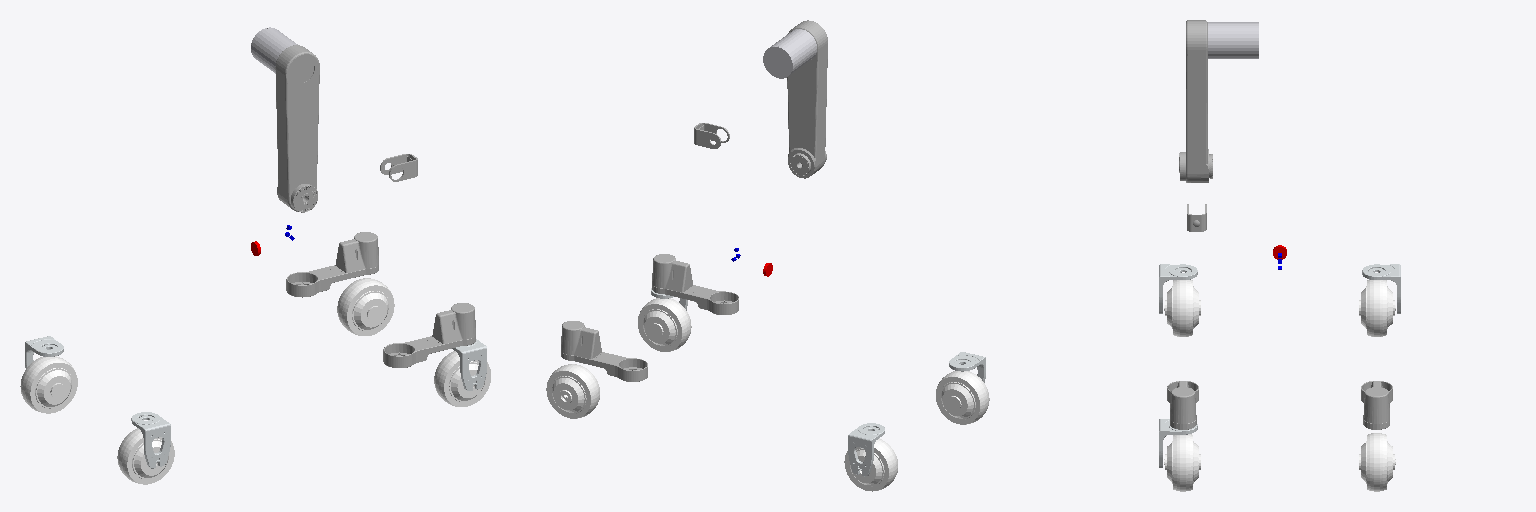
--- What the picture shows (computed from the rendered views, not written in the file) ---
Views: 3 orthographic renders of the robot side by side, from view 1: azimuth 30°, elevation 25°; view 2: azimuth 150°, elevation 25°; view 3: azimuth 270°, elevation 25°.
Model ia_robot with 33 links and 32 joints (17 continuous, 2 prismatic, 13 fixed), rooted at base_footprint, posed every joint at zero.
Links seen in each view (by area): view 1: ARM1_RIGHT, Leg_front_right_3, Leg_front_left_3, Leg_front_left_1, Leg_back_left_1, Leg_back_right_1, Leg_front_right_1, Leg_back_right_2, ARM0_RIGHT, Leg_front_right_2, ARM3_RIGHT, Leg_back_left_2; view 2: ARM1_RIGHT, Leg_front_left_3, Leg_front_right_3, Leg_front_left_1, Leg_back_right_1, Leg_front_right_1, ARM0_RIGHT, Leg_back_left_1, Leg_back_left_2, Leg_back_right_2, ARM3_RIGHT; view 3: ARM1_RIGHT, ARM0_RIGHT, Leg_front_left_1, Leg_back_left_1, Leg_back_right_1, Leg_front_right_1, Leg_front_left_3, Leg_front_right_3, Leg_back_left_2, Leg_back_right_2.
Link boxes in pixels (x1=…): ARM1_RIGHT: x1=275, y1=45, x2=319, y2=212; Leg_front_right_3: x1=383, y1=303, x2=475, y2=367; Leg_front_left_3: x1=286, y1=232, x2=378, y2=297; Leg_front_left_1: x1=337, y1=278, x2=394, y2=335; Leg_back_left_1: x1=20, y1=356, x2=77, y2=413; Leg_back_right_1: x1=117, y1=428, x2=174, y2=484; Leg_front_right_1: x1=434, y1=351, x2=490, y2=406; Leg_back_right_2: x1=131, y1=412, x2=170, y2=468; ARM0_RIGHT: x1=251, y1=27, x2=297, y2=73; Leg_front_right_2: x1=452, y1=339, x2=486, y2=390; ARM3_RIGHT: x1=380, y1=154, x2=417, y2=181; Leg_back_left_2: x1=25, y1=336, x2=63, y2=368; ARM1_RIGHT: x1=787, y1=20, x2=827, y2=178; Leg_front_left_3: x1=561, y1=321, x2=647, y2=381; Leg_front_right_3: x1=652, y1=254, x2=738, y2=314; Leg_front_left_1: x1=546, y1=364, x2=599, y2=418; Leg_back_right_1: x1=936, y1=371, x2=989, y2=424; Leg_front_right_1: x1=638, y1=298, x2=691, y2=351; ARM0_RIGHT: x1=763, y1=29, x2=816, y2=78; Leg_back_left_1: x1=844, y1=438, x2=897, y2=491; Leg_back_left_2: x1=848, y1=423, x2=884, y2=476; Leg_back_right_2: x1=949, y1=352, x2=985, y2=382; ARM3_RIGHT: x1=694, y1=123, x2=729, y2=148; ARM1_RIGHT: x1=1179, y1=20, x2=1212, y2=182; ARM0_RIGHT: x1=1208, y1=22, x2=1258, y2=58; Leg_front_left_1: x1=1359, y1=433, x2=1395, y2=491; Leg_back_left_1: x1=1359, y1=280, x2=1395, y2=336; Leg_back_right_1: x1=1164, y1=280, x2=1200, y2=336; Leg_front_right_1: x1=1164, y1=434, x2=1200, y2=491; Leg_front_left_3: x1=1361, y1=381, x2=1392, y2=429; Leg_front_right_3: x1=1167, y1=381, x2=1198, y2=429; Leg_back_left_2: x1=1362, y1=264, x2=1400, y2=313; Leg_back_right_2: x1=1159, y1=264, x2=1197, y2=313.
Size in the robot's own frame: 1.16 by 0.663 by 1.18 metres.
12 mesh visuals loaded from 20 distinct referenced files (12 binary STL); not drawn: 8 (reference not matched to a file when rendering).

The robot description file, URDF, robot "ia_robot":
<?xml version="1.0" encoding="utf-8"?>
<!--
     ========================================================================
     INTUITIVE AUTONOMY CONFIDENTIAL
     ========================================================================
     This URDF file and all its contents are proprietary and confidential 
     to Intuitive Autonomy. All designs, specifications, and technical data 
     contained within this file are the exclusive property of Intuitive 
     Autonomy and are protected by applicable intellectual property laws. 
     Unauthorized use, reproduction, distribution, or disclosure is strictly 
     prohibited.
     ========================================================================
-->
<!-- This URDF was automatically created by SolidWorks to URDF Exporter! Originally created by Stephen Brawner ([email redacted]) 
     Commit Version: 1.6.0-4-g7f85cfe  Build Version: 1.6.7995.38578
     For more information, please see http://wiki.ros.org/sw_urdf_exporter -->
<robot
  name="ia_robot" xmlns:xacro="http://ros.org/wiki/xacro">
  
  <!-- Dummy root link to satisfy KDL parser requirements -->
  <link name="base_footprint">
    <!-- No inertial properties for the root link -->
  </link>
  
  <!-- Joint connecting dummy root to base_link -->
  <joint name="root_to_base" type="fixed">
    <origin xyz="0 0 0.6" rpy="0 0 3.1415926"/>
    <parent link="base_footprint"/>
    <child link="base_link"/>
  </joint>
  
  <link
    name="base_link">
    <inertial>
      <origin
        xyz="0.022932 -0.005675 -0.087903"
        rpy="0 0 0" />
      <mass
        value="15.862" />
      <inertia
        ixx="0.27465"
        ixy="-7.1995E-06"
        ixz="0.0050561"
        iyy="0.13652"
        iyz="-1.5511E-05"
        izz="0.29154" />
    </inertial>
    <visual>
      <origin
        xyz="0 0 0"
        rpy="0 0 0" />
      <geometry>
        <mesh
          filename="package://ia_robot_urdf/meshes/base_link.STL" />
      </geometry>
      <material
        name="">
        <color
          rgba="0.75294 0.75294 0.75294 1" />
      </material>
    </visual>
    <collision>
      <origin
        xyz="0 0 0"
        rpy="0 0 0" />
      <geometry>
        <mesh
          filename="package://ia_robot_urdf/meshes/base_link_col_left.STL" />
      </geometry>
    </collision>
    <collision>
      <origin
        xyz="0 0 0"
        rpy="0 0 0" />
      <geometry>
        <mesh
          filename="package://ia_robot_urdf/meshes/base_link_col_right.STL" />
      </geometry>
    </collision>
  </link>

  <!-- camera (all in one) -->
  <link
    name="camera_link">
    <inertial>
      <origin
        xyz="0 0 0"
        rpy="0 0 0" />
      <mass
        value="0.01" />
      <inertia
        ixx="0.000001"
        ixy="0"
        ixz="0"
        iyy="0.000001"
        iyz="0"
        izz="0.000001" />
    </inertial>
    <visual>
      <origin
        xyz="0 0 0"
        rpy="0 0 0" />
      <geometry>
        <box size="0.01 0.01 0.01"/>
      </geometry>
      <material
        name="">
        <color
          rgba="0 0 1 1" />
      </material>
    </visual>
  </link>
  <joint
    name="base_to_camera"
    type="fixed">
    <origin
      xyz="-0.1 0 -0.1"
      rpy="0 -0.261799 3.14159" />
      <!-- 15 degree tilt -->
    <parent
      link="base_link" />
    <child
      link="camera_link" />
  </joint>

  <!-- camera_0 -->
  <link
    name="camera_0">
    <inertial>
      <origin
        xyz="0 0 0"
        rpy="0 0 0" />
      <mass
        value="0.01" />
      <inertia
        ixx="0.000001"
        ixy="0"
        ixz="0"
        iyy="0.000001"
        iyz="0"
        izz="0.000001" />
    </inertial>
    <visual>
      <origin
        xyz="0 0 0"
        rpy="0 0 0" />
      <geometry>
        <box size="0.01 0.01 0.01"/>
      </geometry>
      <material
        name="">
        <color
          rgba="0 0 1 1" />
      </material>
    </visual>
  </link>
  <joint
    name="cam_to_camera_0"
    type="fixed">
    <origin
      xyz="0.0097820 0 0.0169428"
      rpy="0 0.52359878 0" />
    <parent
      link="camera_link" />
    <child
      link="camera_0" />
  </joint>
  <!-- 120 deg between camera_0 and camera_1 -->

  <!-- camera_1 -->
  <link
    name="camera_1">
    <inertial>
      <origin
        xyz="0 0 0"
        rpy="0 0 0" />
      <mass
        value="0.01" />
      <inertia
        ixx="0.000001"
        ixy="0"
        ixz="0"
        iyy="0.000001"
        iyz="0"
        izz="0.000001" />
    </inertial>
    <visual>
      <origin
        xyz="0 0 0"
        rpy="0 0 0" />
      <geometry>
        <box size="0.01 0.01 0.01"/>
      </geometry>
      <material
        name="">
        <color
          rgba="0 0 1 1" />
      </material>
    </visual>
  </link>
  <joint
    name="cam_to_camera_1"
    type="fixed">
    <origin
      xyz="0.0097820 0 -0.0169428"
      rpy="0 -0.52359878 0" />
    <parent
      link="camera_link" />
    <child
      link="camera_1" />
  </joint>
  <!-- 120 deg between camera_0 and camera_1 -->

  <!-- lidar_link -->
  <link
    name="lidar_link">
    <inertial>
      <origin
        xyz="0 0 0"
        rpy="0 0 0" />
      <mass
        value="0.01" />
      <inertia
        ixx="0.000001"
        ixy="0"
        ixz="0"
        iyy="0.000001"
        iyz="0"
        izz="0.000001" />
    </inertial>
    <visual>
      <origin
        xyz="0 0 0"
        rpy="0 0 0" />
      <geometry>
        <cylinder radius="0.02" length="0.01"/>
      </geometry>
      <material
        name="">
        <color
          rgba="1 0 0 1" />
      </material>
    </visual>
  </link>
  <joint
    name="base_to_lidar"
    type="fixed">
    <origin
      xyz="0 0 -0.12"
      rpy="0 1.570795 0" />
    <parent
      link="base_link" />
    <child
      link="lidar_link" />
  </joint>

  <!-- Ultrasonic Sensors START -->
  <link name="ultrasonic_front_left_forward" />
  <joint name="ultrasonic_flf" type="fixed">
    <parent link="base_link"/>
    <child link="ultrasonic_front_left_forward"/>
    <origin
      xyz="-0.37 -0.24 -0.25"
      rpy="0 0 3.14159" />
  </joint>
  
  <link name="ultrasonic_front_left_side" />
  <joint name="ultrasonic_fls" type="fixed">
    <parent link="base_link"/>
    <child link="ultrasonic_front_left_side"/>
    <origin
      xyz="-0.30 -0.30 -0.25"
      rpy="0 0 4.71239" />
  </joint>

  <link name="ultrasonic_front_right_forward" />
  <joint name="ultrasonic_frf" type="fixed">
    <parent link="base_link"/>
    <child link="ultrasonic_front_right_forward"/>
    <origin
      xyz="-0.37 0.24 -0.25"
      rpy="0 0 3.14159" />
  </joint>

  <link name="ultrasonic_front_right_side" />
  <joint name="ultrasonic_frs" type="fixed">
    <parent link="base_link"/>
    <child link="ultrasonic_front_right_side"/>
    <origin
      xyz="-0.30 0.30 -0.25"
      rpy="0 0 1.57080" />
  </joint>

  <link name="ultrasonic_rear_left_forward" />
  <joint name="ultrasonic_rlf" type="fixed">
    <parent link="base_link"/>
    <child link="ultrasonic_rear_left_forward"/>
    <origin
      xyz="0.5 -0.26 -0.25"
      rpy="0 0 0" />
  </joint>

  <link name="ultrasonic_rear_left_side" />
  <joint name="ultrasonic_rls" type="fixed">
    <parent link="base_link"/>
    <child link="ultrasonic_rear_left_side"/>
    <origin
      xyz="0.43 -0.3 -0.25"
      rpy="0 0 4.71239" />
  </joint>

  <link name="ultrasonic_rear_right_forward" />
  <joint name="ultrasonic_rrf" type="fixed">
    <parent link="base_link"/>
    <child link="ultrasonic_rear_right_forward"/>
    <origin
      xyz="0.5 0.26 -0.25"
      rpy="0 0 0" />
  </joint>

  <link name="ultrasonic_rear_right_side" />
  <joint name="ultrasonic_rrs" type="fixed">
    <parent link="base_link"/>
    <child link="ultrasonic_rear_right_side"/>
    <origin
      xyz="0.43 0.3 -0.25"
      rpy="0 0 1.57080" />
  </joint>


  <!-- Ultrasonic Sensors END -->

  <link
    name="Leg_front_left_3">
    <inertial>
      <origin
        xyz="-0.106921179827909 1.34423681352747E-07 0.0312269266405216"
        rpy="0 0 0" />
      <mass
        value="0.339608633224089" />
      <inertia
        ixx="0.000285081649796005"
        ixy="-1.82876956249044E-09"
        ixz="0.000102591523351893"
        iyy="0.00138279695289861"
        iyz="2.4382893592623E-09"
        izz="0.00146639605011016" />
    </inertial>
    <visual>
      <origin
        xyz="0 0 0"
        rpy="0 0 0" />
      <geometry>
        <mesh
          filename="package://ia_robot_urdf/meshes/Leg_front_left_3.STL" />
      </geometry>
      <material
        name="">
        <color
          rgba="0.752941176470588 0.752941176470588 0.752941176470588 1" />
      </material>
    </visual>
    <collision>
      <origin
        xyz="0 0 0"
        rpy="0 0 0" />
      <geometry>
        <mesh
          filename="package://ia_robot_urdf/meshes/Leg_front_left_3.STL" />
      </geometry>
    </collision>
  </link>
  <joint
    name="Leg_front_left_3"
    type="continuous">
    <origin
      xyz="-0.3 -0.265 -0.4179"
      rpy="0 0 0" />
    <parent
      link="base_link" />
    <child
      link="Leg_front_left_3" />
    <axis
      xyz="0 0 1" />
  </joint>
  <link
    name="Leg_front_left_2">
    <inertial>
      <origin
        xyz="-3.98980193327958E-09 -0.0395926660228376 -0.0221412692169536"
        rpy="0 0 0" />
      <mass
        value="0.160516219278783" />
      <inertia
        ixx="0.000346919925332363"
        ixy="-7.38943599484142E-12"
        ixz="-6.09776438974598E-11"
        iyy="0.000297809739672037"
        iyz="-8.99151431354613E-05"
        izz="0.000226898004300985" />
    </inertial>
    <visual>
      <origin
        xyz="0 0 0"
        rpy="0 0 0" />
      <geometry>
        <mesh
          filename="package://ia_robot_urdf/meshes/Leg_front_left_2.STL" />
      </geometry>
      <material
        name="">
        <color
          rgba="0.898039215686275 0.917647058823529 0.929411764705882 1" />
      </material>
    </visual>
    <collision>
      <origin
        xyz="0 0 0"
        rpy="0 0 0" />
      <geometry>
        <mesh
          filename="package://ia_robot_urdf/meshes/Leg_front_left_2.STL" />
      </geometry>
    </collision>
  </link>
  <joint
    name="Leg_front_left_2"
    type="continuous">
    <origin
      xyz="-0.2 0 -0.0001"
      rpy="0 0 0" />
    <parent
      link="Leg_front_left_3" />
    <child
      link="Leg_front_left_2" />
    <axis
      xyz="0 0 1" />
  </joint>
  <!-- wheel radius 0.085 -->
  <link
    name="Leg_front_left_1">
    <inertial>
      <origin
        xyz="-4.35207425653061E-14 0.00050699503431334 0.000450936567174764"
        rpy="0 0 0" />
      <mass
        value="1.3523641523137" />
      <inertia
        ixx="0.00255741368199038"
        ixy="-3.45588112952504E-20"
        ixz="2.11636302886032E-19"
        iyy="0.00247259713085181"
        iyz="-1.18061916955662E-05"
        izz="0.00370225987559862" />
    </inertial>
    <visual>
      <origin
        xyz="0 0 0"
        rpy="0 0 0" />
      <geometry>
        <mesh
          filename="package://ia_robot_urdf/meshes/Leg_front_left_1_nocable.STL" />
      </geometry>
      <material
        name="">
        <color
          rgba="1 1 1 1" />
      </material>
    </visual>
    <collision>
      <origin
        xyz="0 0 0"
        rpy="0 0 0" />
      <geometry>
        <cylinder radius="0.085" length="0.05"/>
      </geometry>
    </collision>
  </link>
  <joint
    name="Leg_front_left_1"
    type="continuous">
    <origin
      xyz="0 0 -0.102"
      rpy="1.5708 0 0" />
    <parent
      link="Leg_front_left_2" />
    <child
      link="Leg_front_left_1" />
    <axis
      xyz="0 0 1" />
  </joint>
  <link
    name="Leg_front_right_3">
    <inertial>
      <origin
        xyz="-0.106921169546996 1.37608200612149E-07 0.0312269186214842"
        rpy="0 0 0" />
      <mass
        value="0.339608572174863" />
      <inertia
        ixx="0.000285081644276489"
        ixy="-1.84657451407824E-09"
        ixz="0.000102591533229327"
        iyy="0.00138279694362171"
        iyz="2.42694982875545E-09"
        izz="0.00146639602013726" />
    </inertial>
    <visual>
      <origin
        xyz="0 0 0"
        rpy="0 0 0" />
      <geometry>
        <mesh
          filename="package://ia_robot_urdf/meshes/Leg_front_right_3.STL" />
      </geometry>
      <material
        name="">
        <color
          rgba="0.752941176470588 0.752941176470588 0.752941176470588 1" />
      </material>
    </visual>
    <collision>
      <origin
        xyz="0 0 0"
        rpy="0 0 0" />
      <geometry>
        <mesh
          filename="package://ia_robot_urdf/meshes/Leg_front_right_3.STL" />
      </geometry>
    </collision>
  </link>
  <joint
    name="Leg_front_right_3"
    type="continuous">
    <origin
      xyz="-0.3 0.265 -0.4179"
      rpy="0 0 0" />
    <parent
      link="base_link" />
    <child
      link="Leg_front_right_3" />
    <axis
      xyz="0 0 1" />
  </joint>
  <link
    name="Leg_front_right_2">
    <inertial>
      <origin
        xyz="3.98975996684925E-09 0.0395926660232229 -0.0221412692169544"
        rpy="0 0 0" />
      <mass
        value="0.160516219278785" />
      <inertia
        ixx="0.000346919925332368"
        ixy="-7.38943555595723E-12"
        ixz="6.09776429861874E-11"
        iyy="0.000297809739672043"
        iyz="8.99151431354619E-05"
        izz="0.000226898004300987" />
    </inertial>
    <visual>
      <origin
        xyz="0 0 0"
        rpy="0 0 0" />
      <geometry>
        <mesh
          filename="package://ia_robot_urdf/meshes/Leg_front_right_2.STL" />
      </geometry>
      <material
        name="">
        <color
          rgba="0.898039215686275 0.917647058823529 0.929411764705882 1" />
      </material>
    </visual>
    <collision>
      <origin
        xyz="0 0 0"
        rpy="0 0 0" />
      <geometry>
        <mesh
          filename="package://ia_robot_urdf/meshes/Leg_front_right_2.STL" />
      </geometry>
    </collision>
  </link>
  <joint
    name="Leg_front_right_2"
    type="continuous">
    <origin
      xyz="-0.2 0 -0.0001"
      rpy="0 0 0" />
    <parent
      link="Leg_front_right_3" />
    <child
      link="Leg_front_right_2" />
    <axis
      xyz="0 0 1" />
  </joint>
  <link
    name="Leg_front_right_1">
    <inertial>
      <origin
        xyz="1.22124532708767E-15 0.00050699503431284 -0.000450936567562288"
        rpy="0 0 0" />
      <mass
        value="1.3523641523137" />
      <inertia
        ixx="0.00255741368199038"
        ixy="-9.99356513826864E-22"
        ixz="-3.23508784905215E-21"
        iyy="0.00247259713085182"
        iyz="1.18061916955662E-05"
        izz="0.00370225987559863" />
    </inertial>
    <visual>
      <origin
        xyz="0 0 0"
        rpy="0 0 0" />
      <geometry>
        <mesh
          filename="package://ia_robot_urdf/meshes/Leg_front_right_1_nocable.STL" />
      </geometry>
      <material
        name="">
        <color
          rgba="1 1 1 1" />
      </material>
    </visual>
    <collision>
      <origin
        xyz="0 0 0"
        rpy="0 0 0" />
      <geometry>
        <cylinder radius="0.085" length="0.05"/>
      </geometry>
    </collision>
  </link>
  <joint
    name="Leg_front_right_1"
    type="continuous">
    <origin
      xyz="0 0 -0.102"
      rpy="1.5708 0 0" />
    <parent
      link="Leg_front_right_2" />
    <child
      link="Leg_front_right_1" />
    <axis
      xyz="0 0 1" />
  </joint>
  <link
    name="Leg_back_left_2">
    <inertial>
      <origin
        xyz="-3.98975832927029E-09 -0.0395926660232188 -0.0221412692169541"
        rpy="0 0 0" />
      <mass
        value="0.160516219278784" />
      <inertia
        ixx="0.000346919925332368"
        ixy="-7.38943538300035E-12"
        ixz="-6.09776428262138E-11"
        iyy="0.000297809739672041"
        iyz="-8.99151431354623E-05"
        izz="0.000226898004300987" />
    </inertial>
    <visual>
      <origin
        xyz="0 0 0"
        rpy="0 0 0" />
      <geometry>
        <mesh
          filename="package://ia_robot_urdf/meshes/Leg_back_left_2.STL" />
      </geometry>
      <material
        name="">
        <color
          rgba="0.898039215686275 0.917647058823529 0.929411764705882 1" />
      </material>
    </visual>
    <collision>
      <origin
        xyz="0 0 0"
        rpy="0 0 0" />
      <geometry>
        <mesh
          filename="package://ia_robot_urdf/meshes/Leg_back_left_2.STL" />
      </geometry>
    </collision>
  </link>
  <joint
    name="Leg_back_left_2"
    type="continuous">
    <origin
      xyz="0.5 -0.265 -0.418"
      rpy="0 0 0" />
    <parent
      link="base_link" />
    <child
      link="Leg_back_left_2" />
    <axis
      xyz="0 0 1" />
  </joint>
  <link
    name="Leg_back_left_1">
    <inertial>
      <origin
        xyz="0 0.000506995034313118 -0.000450936567555904"
        rpy="0 0 0" />
      <mass
        value="1.3523641523137" />
      <inertia
        ixx="0.00255741368199038"
        ixy="1.04385485722584E-20"
        ixz="-1.10787857677583E-19"
        iyy="0.00247259713085181"
        iyz="1.18061916955651E-05"
        izz="0.00370225987559862" />
    </inertial>
    <visual>
      <origin
        xyz="0 0 0"
        rpy="0 0 0" />
      <geometry>
        <mesh
          filename="package://ia_robot_urdf/meshes/Leg_back_left_1_nocable.STL" />
      </geometry>
      <material
        name="">
        <color
          rgba="1 1 1 1" />
      </material>
    </visual>
    <collision>
      <origin
        xyz="0 0 0"
        rpy="0 0 0" />
      <geometry>
        <cylinder radius="0.085" length="0.05"/>
      </geometry>
    </collision>
  </link>
  <joint
    name="Leg_back_left_1"
    type="continuous">
    <origin
      xyz="0 0 -0.102"
      rpy="1.5708 0 3.1416" />
    <parent
      link="Leg_back_left_2" />
    <child
      link="Leg_back_left_1" />
    <axis
      xyz="0 0 -1" />
  </joint>
  <link
    name="Leg_back_right_2">
    <inertial>
      <origin
        xyz="3.98975841253701E-09 0.0395926660232188 -0.0221412692169539"
        rpy="0 0 0" />
      <mass
        value="0.160516219278783" />
      <inertia
        ixx="0.000346919925332365"
        ixy="-7.38943539906526E-12"
        ixz="6.09776427099678E-11"
        iyy="0.000297809739672038"
        iyz="8.99151431354616E-05"
        izz="0.000226898004300986" />
    </inertial>
    <visual>
      <origin
        xyz="0 0 0"
        rpy="0 0 0" />
      <geometry>
        <mesh
          filename="package://ia_robot_urdf/meshes/Leg_back_right_2.STL" />
      </geometry>
      <material
        name="">
        <color
          rgba="0.898039215686275 0.917647058823529 0.929411764705882 1" />
      </material>
    </visual>
    <collision>
      <origin
        xyz="0 0 0"
        rpy="0 0 0" />
      <geometry>
        <mesh
          filename="package://ia_robot_urdf/meshes/Leg_back_right_2.STL" />
      </geometry>
    </collision>
  </link>
  <joint
    name="Leg_back_right_2"
    type="continuous">
    <origin
      xyz="0.5 0.265000000000002 -0.418000000000001"
      rpy="0 0 0" />
    <parent
      link="base_link" />
    <child
      link="Leg_back_right_2" />
    <axis
      xyz="0 0 1" />
  </joint>
  <link
    name="Leg_back_right_1">
    <inertial>
      <origin
        xyz="0 0.000506995034313229 -0.00045093656755596"
        rpy="0 0 0" />
      <mass
        value="1.3523641523137" />
      <inertia
        ixx="0.00255741368199038"
        ixy="-1.05982737300211E-21"
        ixz="-3.18483340293149E-21"
        iyy="0.00247259713085182"
        iyz="1.18061916955662E-05"
        izz="0.00370225987559863" />
    </inertial>
    <visual>
      <origin
        xyz="0 0 0"
        rpy="0 0 0" />
      <geometry>
        <mesh
          filename="package://ia_robot_urdf/meshes/Leg_back_right_1_nocable.STL" />
      </geometry>
      <material
        name="">
        <color
          rgba="1 1 1 1" />
      </material>
    </visual>
    <collision>
      <origin
        xyz="0 0 0"
        rpy="0 0 0" />
      <geometry>
        <cylinder radius="0.085" length="0.05"/>
      </geometry>
    </collision>
  </link>
  <joint
    name="Leg_back_right_1"
    type="continuous">
    <origin
      xyz="0 0 -0.102"
      rpy="1.5708 0 0" />
    <parent
      link="Leg_back_right_2" />
    <child
      link="Leg_back_right_1" />
    <axis
      xyz="0 0 1" />
  </joint>
  <link
    name="CHEST1">
    <inertial>
      <origin
        xyz="-0.0064333 0.28526 -0.036079"
        rpy="0 0 0" />
      <mass
        value="5.478" />
      <inertia
        ixx="0.055588"
        ixy="-2.4545E-10"
        ixz="-2.6727E-07"
        iyy="0.031749"
        iyz="-8.9945E-11"
        izz="0.040066" />
    </inertial>
    <visual>
      <origin
        xyz="0 0 0"
        rpy="0 0 0" />
      <geometry>
        <mesh
          filename="package://ia_robot_urdf/meshes/CHEST1.STL" />
      </geometry>
      <material
        name="">
        <color
          rgba="0.75294 0.75294 0.75294 1" />
      </material>
    </visual>
    <collision>
      <origin
        xyz="0 0 0"
        rpy="0 0 0" />
      <geometry>
        <mesh
          filename="package://ia_robot_urdf/meshes/CHEST1.STL" />
      </geometry>
    </collision>
  </link>
  <joint
    name="CHEST1"
    type="continuous">
    <origin
      xyz="0 0.036 0"
      rpy="1.5708 0 -3.1416" />
    <parent
      link="base_link" />
    <child
      link="CHEST1" />
    <axis
      xyz="0 0 -1" />
  </joint>
  <link
    name="ARM0_LEFT">
    <inertial>
      <origin
        xyz="0 0 -0.075074"
        rpy="0 0 0" />
      <mass
        value="3.1665" />
      <inertia
        ixx="0.0078697"
        ixy="3.35E-22"
        ixz="3.5507E-20"
        iyy="0.0078817"
        iyz="-6.3811E-20"
        izz="0.0039641" />
    </inertial>
    <visual>
      <origin
        xyz="0 0 0"
        rpy="0 0 0" />
      <geometry>
        <mesh
          filename="package://ia_robot_urdf/meshes/ARM0_LEFT.STL" />
      </geometry>
      <material
        name="">
        <color
          rgba="0.86667 0.86667 0.8902 1" />
      </material>
    </visual>
    <collision>
      <origin
        xyz="0 0 0"
        rpy="0 0 0" />
      <geometry>
        <mesh
          filename="package://ia_robot_urdf/meshes/ARM0_LEFT.STL" />
      </geometry>
    </collision>
  </link>
  <joint
    name="ARM0_LEFT"
    type="prismatic">
    <origin
      xyz="0 0.52 -0.24407"
      rpy="-3.1416 0 -3.1416" />
    <parent
      link="CHEST1" />
    <child
      link="ARM0_LEFT" />
    <axis
      xyz="0 0 1" />
    <limit
      lower="-0.04"
      upper="0.04"
      effort="100"
      velocity="1.0" />
  </joint>
  <link
    name="ARM1_LEFT">
    <inertial>
      <origin
        xyz="3.13795806561323E-08 -0.159382654301942 -0.0275273732634418"
        rpy="0 0 0" />
      <mass
        value="2.36943925387609" />
      <inertia
        ixx="0.0333119217877632"
        ixy="3.89392337350772E-09"
        ixz="1.90284161936625E-09"
        iyy="0.00273027282709335"
        iyz="-0.000396997064015467"
        izz="0.0346744071353861" />
    </inertial>
    <visual>
      <origin
        xyz="0 0 0"
        rpy="0 0 0" />
      <geometry>
        <mesh
          filename="package://ia_robot_urdf/meshes/ARM1_LEFT.STL" />
      </geometry>
      <material
        name="">
        <color
          rgba="0.752941176470588 0.752941176470588 0.752941176470588 1" />
      </material>
    </visual>
    <collision>
      <origin
        xyz="0 0 0"
        rpy="0 0 0" />
      <geometry>
        <mesh
          filename="package://ia_robot_urdf/meshes/ARM1_LEFT.STL" />
      </geometry>
    </collision>
  </link>
  <joint
    name="ARM1_LEFT"
    type="continuous">
    <origin
      xyz="0 0 0.048"
      rpy="0 0 0" />
    <parent
      link="ARM0_LEFT" />
    <child
      link="ARM1_LEFT" />
    <axis
      xyz="0 0 -1" />
  </joint>
  <link
    name="ARM2_LEFT">
    <inertial>
      <origin
        xyz="-0.147933829267414 -8.17479933745702E-09 0.043707396358746"
        rpy="0 0 0" />
      <mass
        value="1.62272731176337" />
      <inertia
        ixx="0.00206068413912523"
        ixy="1.56632108947467E-09"
        ixz="0.000173877303537274"
        iyy="0.0098695709635989"
        iyz="-1.58760292202307E-08"
        izz="0.00918604504093384" />
    </inertial>
    <visual>
      <origin
        xyz="0 0 0"
        rpy="0 0 0" />
      <geometry>
        <mesh
          filename="package://ia_robot_urdf/meshes/ARM2_LEFT.STL" />
      </geometry>
      <material
        name="">
        <color
          rgba="0.752941176470588 0.752941176470588 0.752941176470588 1" />
      </material>
    </visual>
    <collision>
      <origin
        xyz="0 0 0"
        rpy="0 0 0" />
      <geometry>
        <mesh
          filename="package://ia_robot_urdf/meshes/ARM2_LEFT.STL" />
      </geometry>
    </collision>
  </link>
  <joint
    name="ARM2_LEFT"
    type="continuous">
    <origin
      xyz="0 -0.38 -0.0725"
      rpy="0 0 0" />
    <parent
      link="ARM1_LEFT" />
    <child
      link="ARM2_LEFT" />
    <axis
      xyz="0 0 -1" />
  </joint>
  <link
    name="ARM3_LEFT">
    <inertial>
      <origin
        xyz="-0.039612082844795 0 0.022051378066143"
        rpy="0 0 0" />
      <mass
        value="0.0480757069986486" />
      <inertia
        ixx="3.20083082511178E-05"
        ixy="1.01050334367889E-20"
        ixz="3.31997570547699E-06"
        iyy="5.20078293179275E-05"
        iyz="-3.94091059438496E-20"
        izz="4.04524618464536E-05" />
    </inertial>
    <visual>
      <origin
        xyz="0 0 0"
        rpy="0 0 0" />
      <geometry>
        <mesh
          filename="package://ia_robot_urdf/meshes/ARM3_LEFT.STL" />
      </geometry>
      <material
        name="">
        <color
          rgba="0.752941176470588 0.752941176470588 0.752941176470588 1" />
      </material>
    </visual>
    <collision>
      <origin
        xyz="0 0 0"
        rpy="0 0 0" />
      <geometry>
        <mesh
          filename="package://ia_robot_urdf/meshes/ARM3_LEFT.STL" />
      </geometry>
    </collision>
  </link>
  <joint
    name="ARM3_LEFT"
    type="continuous">
    <origin
      xyz="-0.3 0 0.0205"
      rpy="0 0 0" />
    <parent
      link="ARM2_LEFT" />
    <child
      link="ARM3_LEFT" />
    <axis
      xyz="0 0 -1" />
  </joint>
  <link
    name="ARM0_RIGHT">
    <inertial>
      <origin
        xyz="0 0 0.085509"
        rpy="0 0 0" />
      <mass
        value="3.1665" />
      <inertia
        ixx="0.0078697"
        ixy="3.2233E-22"
        ixz="3.576E-20"
        iyy="0.0078817"
        iyz="-6.4444E-20"
        izz="0.0039641" />
    </inertial>
    <visual>
      <origin
        xyz="0 0 0"
        rpy="0 0 0" />
      <geometry>
        <mesh
          filename="package://ia_robot_urdf/meshes/ARM0_RIGHT.STL" />
      </geometry>
      <material
        name="">
        <color
          rgba="0.86667 0.86667 0.8902 1" />
      </material>
    </visual>
    <collision>
      <origin
        xyz="0 0 0"
        rpy="0 0 0" />
      <geometry>
        <mesh
          filename="package://ia_robot_urdf/meshes/ARM0_RIGHT.STL" />
      </geometry>
    </collision>
  </link>
  <joint
    name="ARM0_RIGHT"
    type="prismatic">
    <origin
      xyz="0 0.52 0.18251"
      rpy="-3.1416 0 -3.1416" />
    <parent
      link="CHEST1" />
    <child
      link="ARM0_RIGHT" />
    <axis
      xyz="0 0 -1" />
    <limit
      lower="0.0"
      upper="0.04"
      effort="100"
      velocity="1.0" />
  </joint>
  <link
    name="ARM1_RIGHT">
    <inertial>
      <origin
        xyz="-3.13795807116435E-08 -0.159382654301942 0.0379622699810894"
        rpy="0 0 0" />
      <mass
        value="2.36943925387609" />
      <inertia
        ixx="0.0333119217877632"
        ixy="-3.89392337432221E-09"
        ixz="1.90284162118494E-09"
        iyy="0.00273027282709335"
        iyz="0.000396997064015477"
        izz="0.0346744071353861" />
    </inertial>
    <visual>
      <origin
        xyz="0 0 0"
        rpy="0 0 0" />
      <geometry>
        <mesh
          filename="package://ia_robot_urdf/meshes/ARM1_RIGHT.STL" />
      </geometry>
      <material
        name="">
        <color
          rgba="0.752941176470588 0.752941176470588 0.752941176470588 1" />
      </material>
    </visual>
    <collision>
      <origin
        xyz="0 0 0"
        rpy="0 0 0" />
      <geometry>
        <mesh
          filename="package://ia_robot_urdf/meshes/ARM1_RIGHT.STL" />
      </geometry>
    </collision>
  </link>
  <joint
    name="ARM1_RIGHT"
    type="continuous">
    <origin
      xyz="0 0 -0.048"
      rpy="0 0 0" />
    <parent
      link="ARM0_RIGHT" />
    <child
      link="ARM1_RIGHT" />
    <axis
      xyz="0 0 -1" />
  </joint>
  <link
    name="ARM2_RIGHT">
    <inertial>
      <origin
        xyz="-0.147933829267414 8.17479955950162E-09 -0.0332724996410979"
        rpy="0 0 0" />
      <mass
        value="1.62272731176336" />
      <inertia
        ixx="0.00206068413912523"
        ixy="-1.56632108642184E-09"
        ixz="-0.000173877303537249"
        iyy="0.00986957096359889"
        iyz="-1.58760292180962E-08"
        izz="0.00918604504093384" />
    </inertial>
    <visual>
      <origin
        xyz="0 0 0"
        rpy="0 0 0" />
      <geometry>
        <mesh
          filename="package://ia_robot_urdf/meshes/ARM2_RIGHT.STL" />
      </geometry>
      <material
        name="">
        <color
          rgba="0.752941176470588 0.752941176470588 0.752941176470588 1" />
      </material>
    </visual>
    <collision>
      <origin
        xyz="0 0 0"
        rpy="0 0 0" />
      <geometry>
        <mesh
          filename="package://ia_robot_urdf/meshes/ARM2_RIGHT.STL" />
      </geometry>
    </collision>
  </link>
  <joint
    name="ARM2_RIGHT"
    type="continuous">
    <origin
      xyz="0 -0.38 0.0725"
      rpy="0 0 0" />
    <parent
      link="ARM1_RIGHT" />
    <child
      link="ARM2_RIGHT" />
    <axis
      xyz="0 0 -1" />
  </joint>
  <link
    name="ARM3_RIGHT">
    <inertial>
      <origin
        xyz="-0.039612082844795 0 -0.0116164813484952"
        rpy="0 0 0" />
      <mass
        value="0.0480757069986486" />
      <inertia
        ixx="3.20083082511178E-05"
        ixy="6.64161991174345E-21"
        ixz="-3.31997570547702E-06"
        iyy="5.20078293179274E-05"
        iyz="1.20888557422305E-20"
        izz="4.04524618464535E-05" />
    </inertial>
    <visual>
      <origin
        xyz="0 0 0"
        rpy="0 0 0" />
      <geometry>
        <mesh
          filename="package://ia_robot_urdf/meshes/ARM3_RIGHT.STL" />
      </geometry>
      <material
        name="">
        <color
          rgba="0.752941176470588 0.752941176470588 0.752941176470588 1" />
      </material>
    </visual>
    <collision>
      <origin
        xyz="0 0 0"
        rpy="0 0 0" />
      <geometry>
        <mesh
          filename="package://ia_robot_urdf/meshes/ARM3_RIGHT.STL" />
      </geometry>
    </collision>
  </link>
  <joint
    name="ARM3_RIGHT"
    type="continuous">
    <origin
      xyz="-0.3 0 -0.0205"
      rpy="0 0 0" />
    <parent
      link="ARM2_RIGHT" />
    <child
      link="ARM3_RIGHT" />
    <axis
      xyz="0 0 -1" />
  </joint>

  <ros2_control name="GsSimSystem" type="system">
    <hardware>
        <plugin>topic_based_ros2_control/TopicBasedSystem</plugin>
        <param name="joint_commands_topic">/joint_commands</param>
        <param name="joint_states_topic">/joint_states</param>
        <param name="trigger_joint_command_threshold">-1</param>
    </hardware>
    <joint name="Leg_front_left_2">
        <command_interface name="position">
          <param name="min">-360</param>
          <param name="max">360</param>
        </command_interface>
        <state_interface name="position"/>
        <state_interface name="velocity"/>
        <state_interface name="effort"/>
      </joint>
      <joint name="Leg_front_right_2">
        <command_interface name="position">
          <param name="min">-360</param>
          <param name="max">360</param>
        </command_interface>
        <state_interface name="position"/>
        <state_interface name="velocity"/>
        <state_interface name="effort"/>
      </joint>
      <joint name="Leg_back_left_2">
        <command_interface name="position">
          <param name="min">-360</param>
          <param name="max">360</param>
        </command_interface>
        <state_interface name="position"/>
        <state_interface name="velocity"/>
        <state_interface name="effort"/>
      </joint>
      <joint name="Leg_back_right_2">
        <command_interface name="position">
          <param name="min">-360</param>
          <param name="max">360</param>
        </command_interface>
        <state_interface name="position"/>
        <state_interface name="velocity"/>
        <state_interface name="effort"/>
      </joint>
      <joint name="Leg_front_left_1">
        <command_interface name="velocity">
          <param name="min">-10</param>
          <param name="max">10</param>
        </command_interface>
        <state_interface name="position"/>
        <state_interface name="velocity"/>
        <state_interface name="effort"/>
      </joint>
      <joint name="Leg_front_right_1">
        <command_interface name="velocity">
          <param name="min">-10</param>
          <param name="max">10</param>
        </command_interface>
        <state_interface name="position"/>
        <state_interface name="velocity"/>
        <state_interface name="effort"/>
      </joint>
      <joint name="Leg_back_left_1">
        <command_interface name="velocity">
          <param name="min">-10</param>
          <param name="max">10</param>
        </command_interface>
        <state_interface name="position"/>
        <state_interface name="velocity"/>
        <state_interface name="effort"/>
      </joint>
      <joint name="Leg_back_right_1">
        <command_interface name="velocity">
          <param name="min">-10</param>
          <param name="max">10</param>
        </command_interface>
        <state_interface name="position"/>
        <state_interface name="velocity"/>
        <state_interface name="effort"/>
      </joint>
      <!-- Upper Body -->
      <!-- <joint name="ARM0_LEFT">
        <command_interface name="position">
          <param name="min">0.0</param>
          <param name="max">0.04</param>
        </command_interface>
        <state_interface name="position"/>
        <state_interface name="velocity"/>
        <state_interface name="effort"/>
      </joint>
      <joint name="ARM0_RIGHT">
        <command_interface name="position">
          <param name="min">0.0</param>
          <param name="max">0.04</param>
        </command_interface>
        <state_interface name="position"/>
        <state_interface name="velocity"/>
        <state_interface name="effort"/>
      </joint>
      <joint name="ARM1_LEFT">
        <command_interface name="position">
          <param name="min">-360</param>
          <param name="max">360</param>
        </command_interface>
        <state_interface name="position"/>
        <state_interface name="velocity"/>
        <state_interface name="effort"/>
      </joint>
      <joint name="ARM1_RIGHT">
        <command_interface name="position">
          <param name="min">-360</param>
          <param name="max">360</param>
        </command_interface>
        <state_interface name="position"/>
        <state_interface name="velocity"/>
        <state_interface name="effort"/>
      </joint>
      <joint name="ARM2_LEFT">
        <command_interface name="position">
          <param name="min">-360</param>
          <param name="max">360</param>
        </command_interface>
        <state_interface name="position"/>
        <state_interface name="velocity"/>
        <state_interface name="effort"/>
      </joint>
      <joint name="ARM2_RIGHT">
        <command_interface name="position">
          <param name="min">-360</param>
          <param name="max">360</param>
        </command_interface>
        <state_interface name="position"/>
        <state_interface name="velocity"/>
        <state_interface name="effort"/>
      </joint>
      <joint name="ARM3_LEFT">
        <command_interface name="position">
          <param name="min">-360</param>
          <param name="max">360</param>
        </command_interface>
        <state_interface name="position"/>
        <state_interface name="velocity"/>
        <state_interface name="effort"/>
      </joint>
      <joint name="ARM3_RIGHT">
        <command_interface name="position">
          <param name="min">-360</param>
          <param name="max">360</param>
        </command_interface>
        <state_interface name="position"/>
        <state_interface name="velocity"/>
        <state_interface name="effort"/>
      </joint>
      <joint name="CHEST1">
        <command_interface name="position">
          <param name="min">-360</param>
          <param name="max">360</param>
        </command_interface>
        <state_interface name="position"/>
        <state_interface name="velocity"/>
        <state_interface name="effort"/>
      </joint> -->
  </ros2_control>
</robot>
